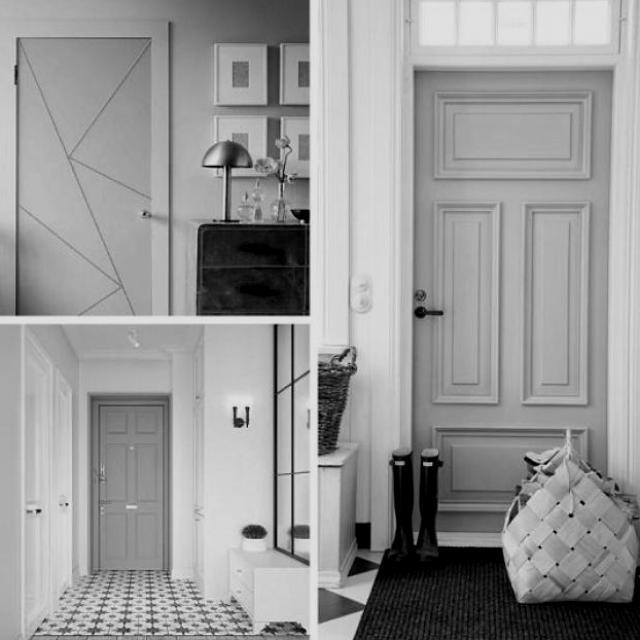door: (411, 67, 612, 515), (13, 32, 157, 316), (94, 400, 167, 571)
